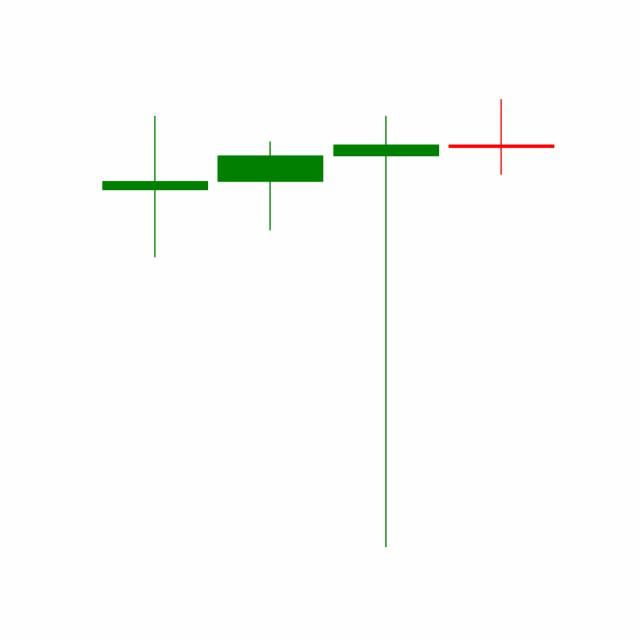Spinning Top: (443, 98, 559, 176)
